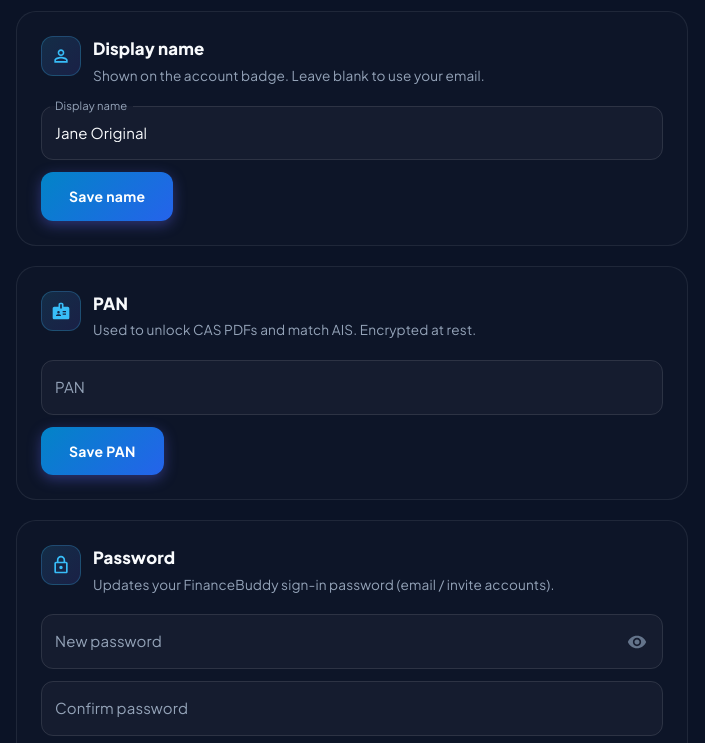
Test: ProfilePage › validates PAN format and password confirmation errors
This screenshot has width=705, height=743.
(page scrolled)
Type "BADPAN" into the field with placeholder "ABCDE1234F". click: (352, 387)
box: [41, 360, 663, 414]
Click the button "Save PAN". click: (102, 451)
box: [41, 426, 164, 475]
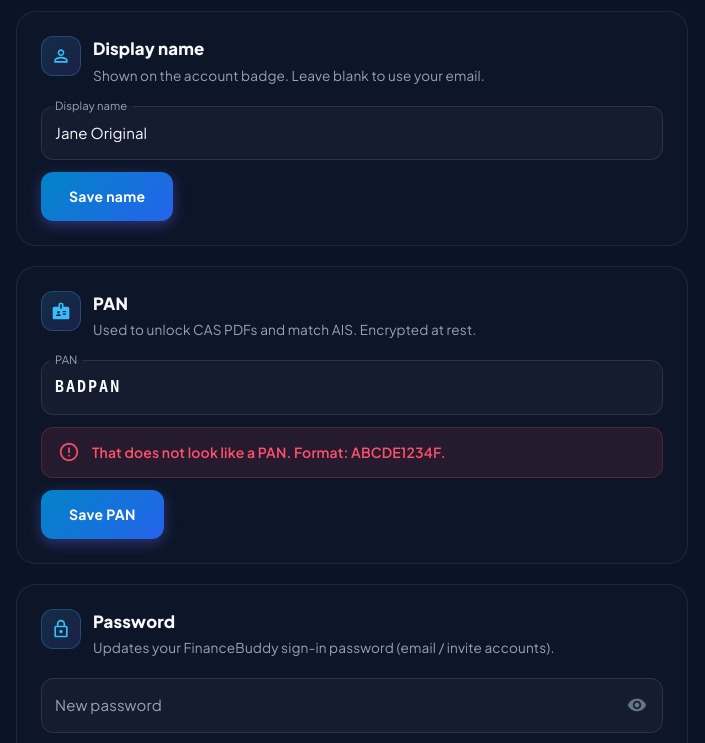
Now the text "That does not look like a PAN. Format: ABCDE1234F." is shown, box [92, 442, 446, 460]
Type "short" into the password field labelled "New password". click: (328, 705)
box: [41, 678, 614, 733]
(page scrolled)
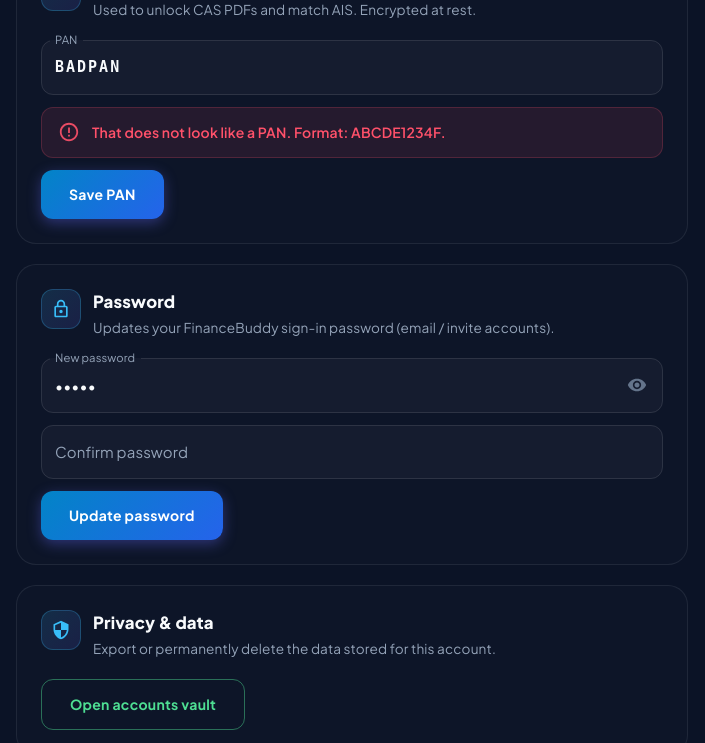
Click the button "Update password". click: (132, 515)
box: [41, 491, 223, 540]
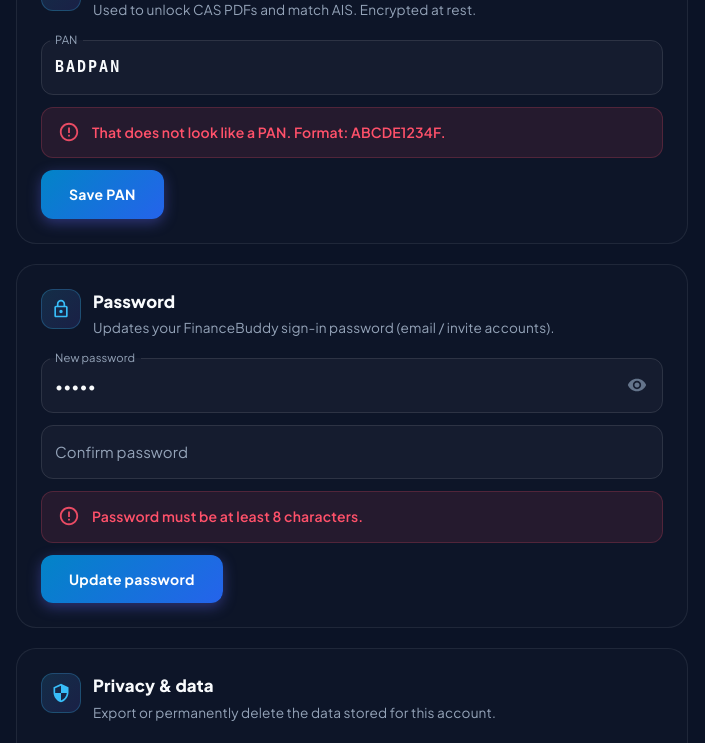
Now the text "Password must be at least 8 characters." is shown, box [92, 507, 363, 525]
Type "LongEnough1" into the password field labelled "New password". click: (328, 385)
box: [41, 358, 614, 413]
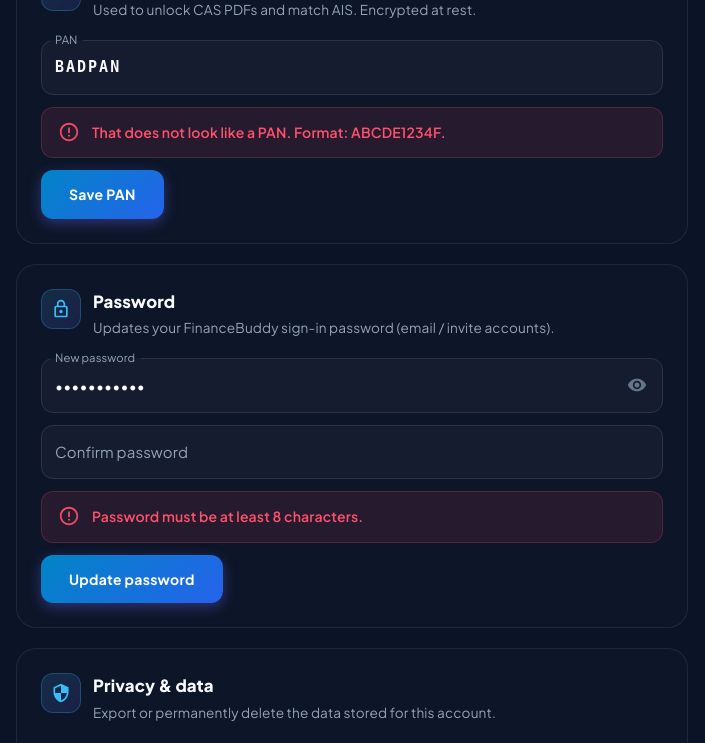
Type "Mismatch123" into the password field labelled "Confirm password". click: (352, 452)
box: [41, 425, 663, 479]
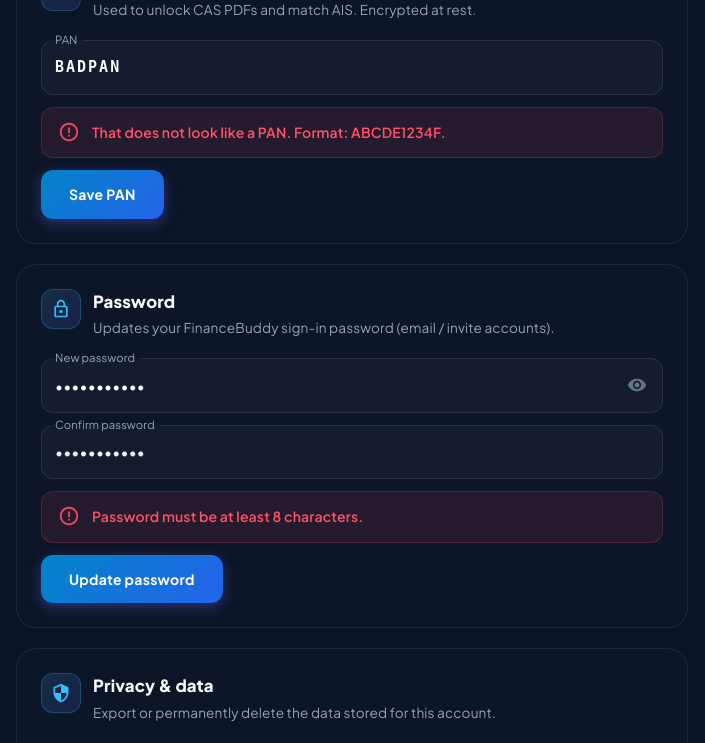
Click the button "Update password". click: (132, 579)
box: [41, 555, 223, 603]
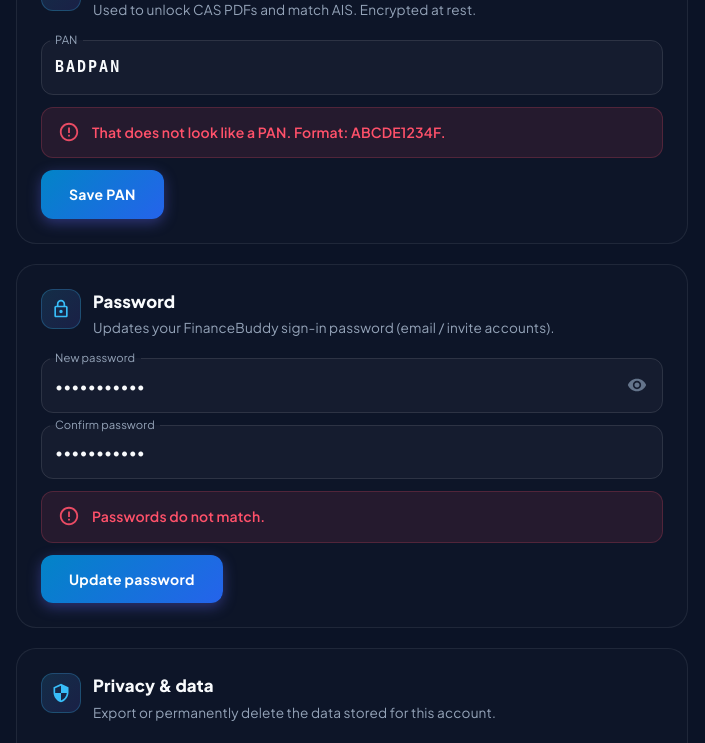
Now the text "Passwords do not match." is shown, box [92, 507, 265, 525]
